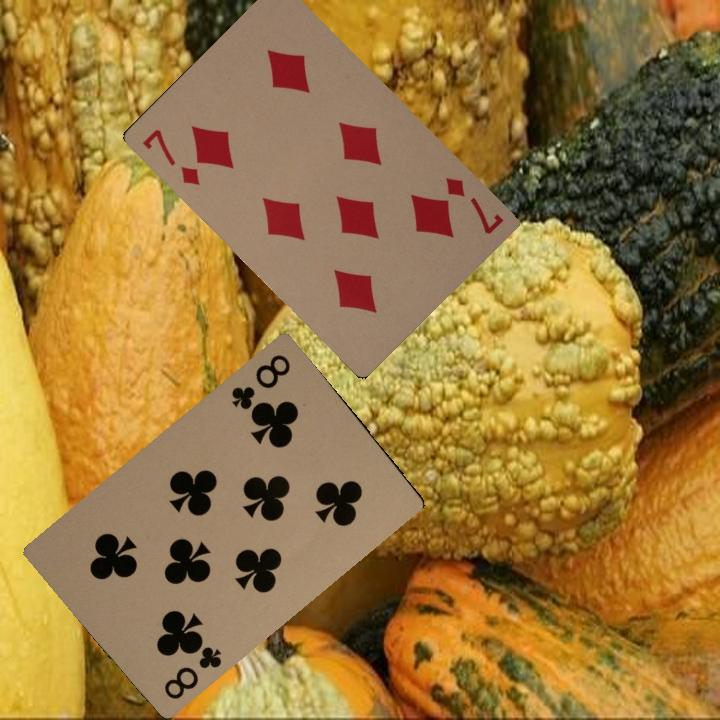7d: (441, 172, 506, 237), (138, 125, 203, 188)
8c: (159, 636, 225, 702), (227, 350, 293, 412)
